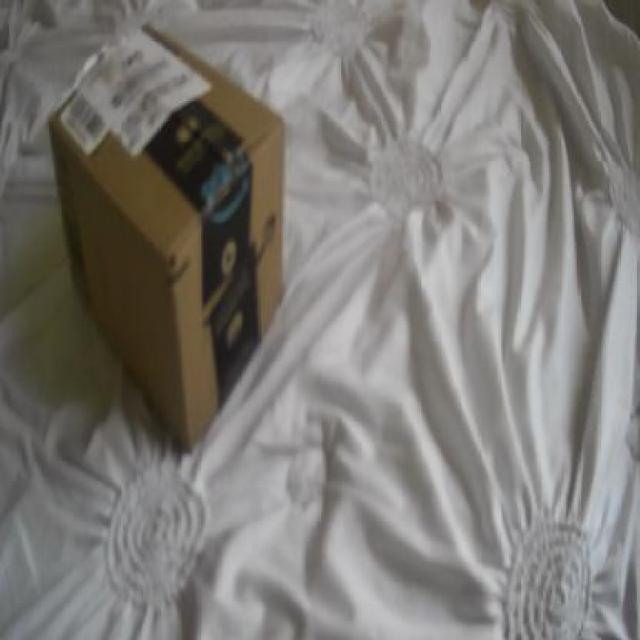box: (50, 23, 290, 449)
